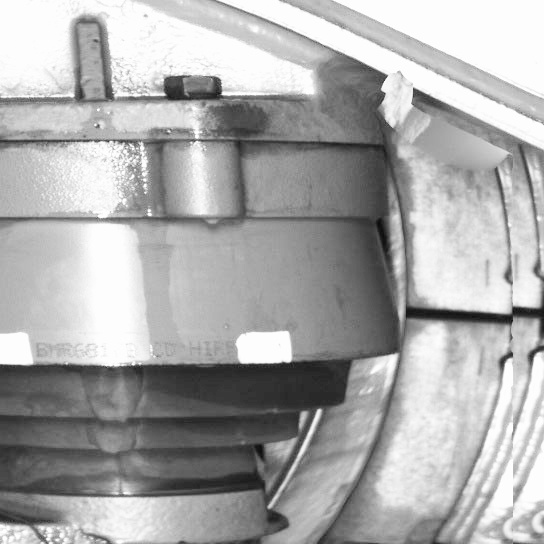ClosedKnifeSwitch: (239, 144, 511, 542)
